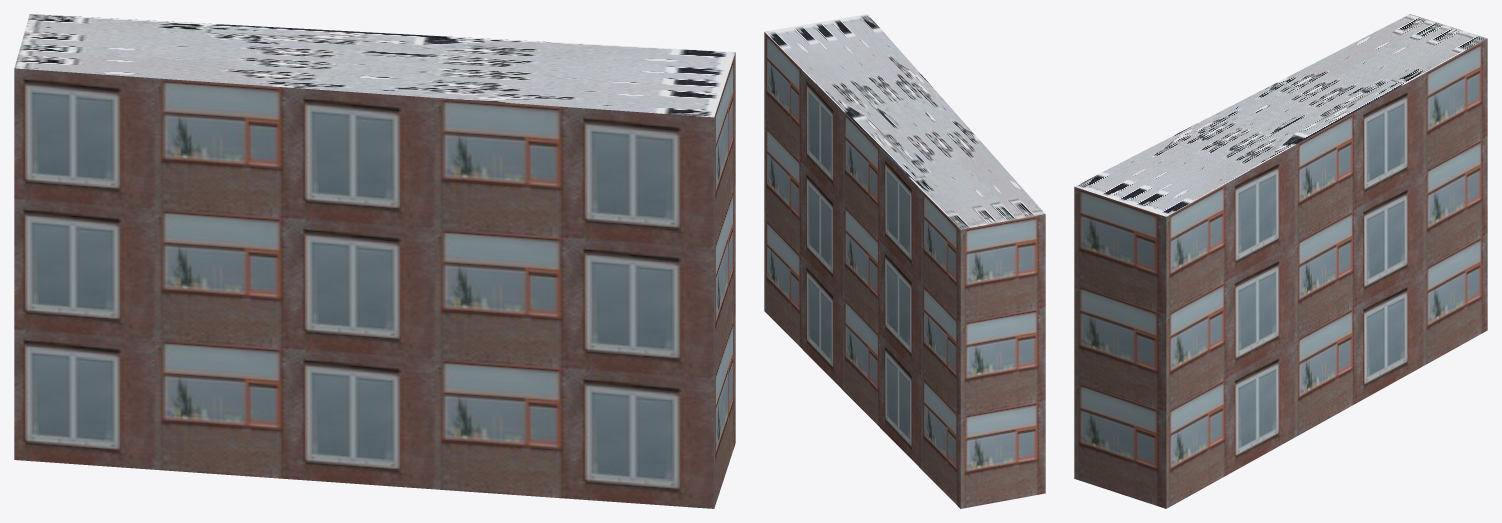
File: ResTex__3064.fbx
The picture shows the model from 3 angles, left to right: view 1: azimuth 30°, elevation 25°; view 2: azimuth 150°, elevation 25°; view 3: azimuth 270°, elevation 25°; orthographic projection. The views are drawn at different scales.
Visible parts, largest first — view 1: CityEngineMaterial_19_m, CityEngineMaterial_15_m; view 2: CityEngineMaterial_19_m, CityEngineMaterial_15_m; view 3: CityEngineMaterial_19_m, CityEngineMaterial_15_m.
Boxes of the visible parts, x1,y1,x2,y2 form: CityEngineMaterial_19_m: (14,52,735,508); CityEngineMaterial_15_m: (14,14,735,117); CityEngineMaterial_19_m: (764,32,1045,508); CityEngineMaterial_15_m: (764,14,1045,229); CityEngineMaterial_19_m: (1074,38,1487,508); CityEngineMaterial_15_m: (1074,14,1487,216).
Size of the model in its own units: 13.41 by 9 by 11.55.
2 materials, 2 textured.
